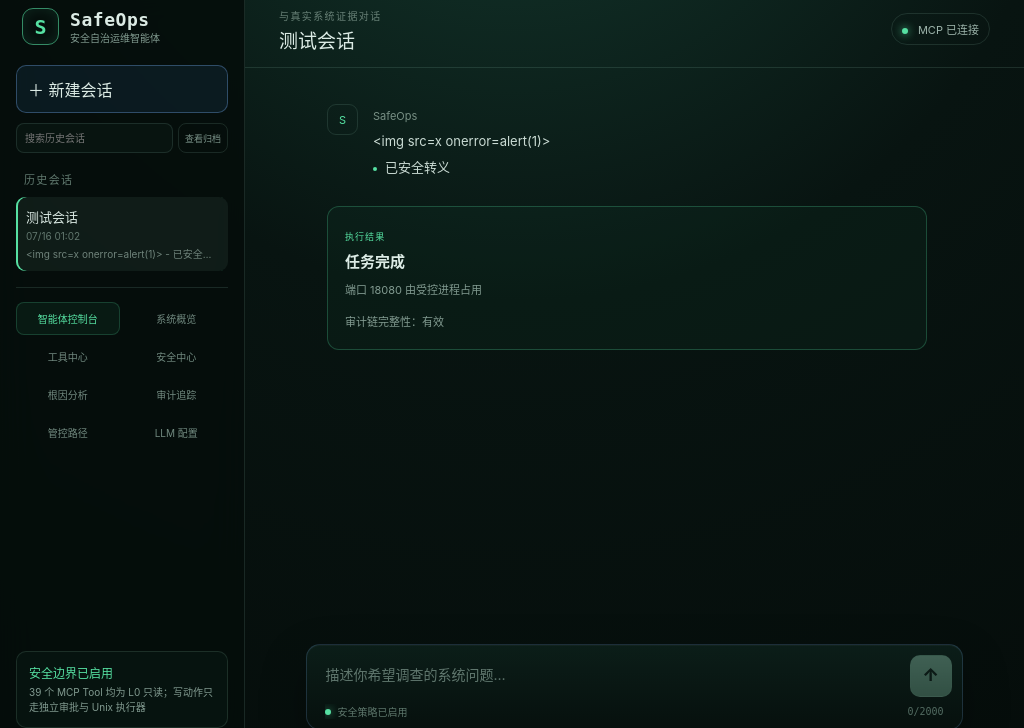
SafeOps Chinese operational UI › saves executor allowlist paths from the settings page
Expected: the heading "测试会话" is shown, [279, 30, 355, 53]
Click the button "管控路径" at (68, 432), box [16, 416, 120, 449]
(page scrolled)
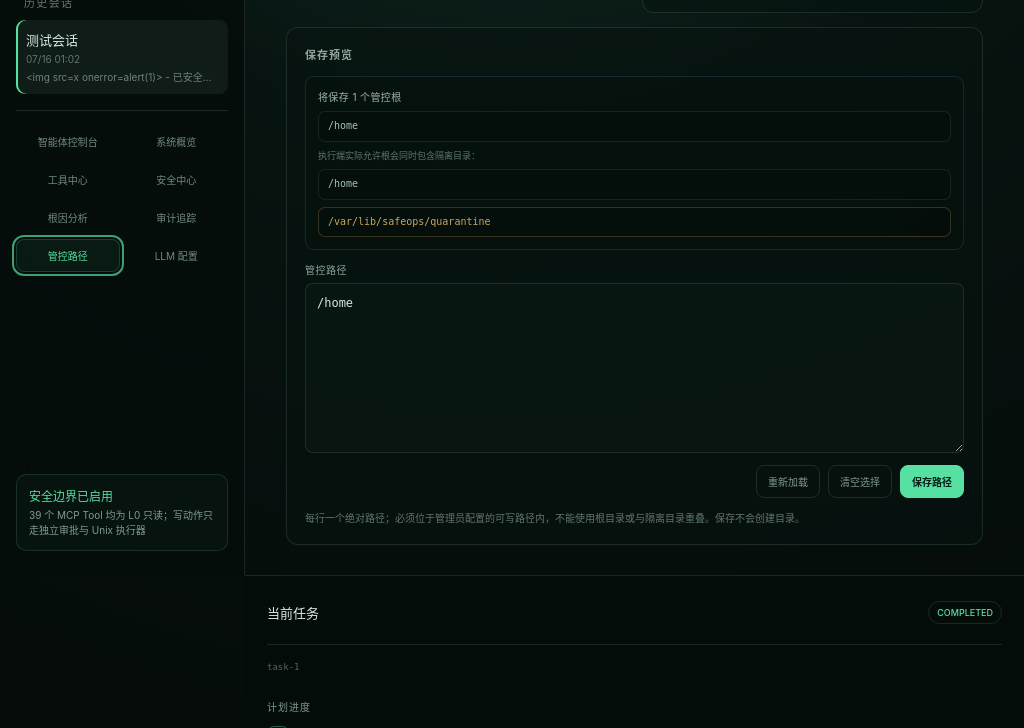
Clear the text box labelled "管控路径" at (635, 368), box [305, 283, 964, 453]
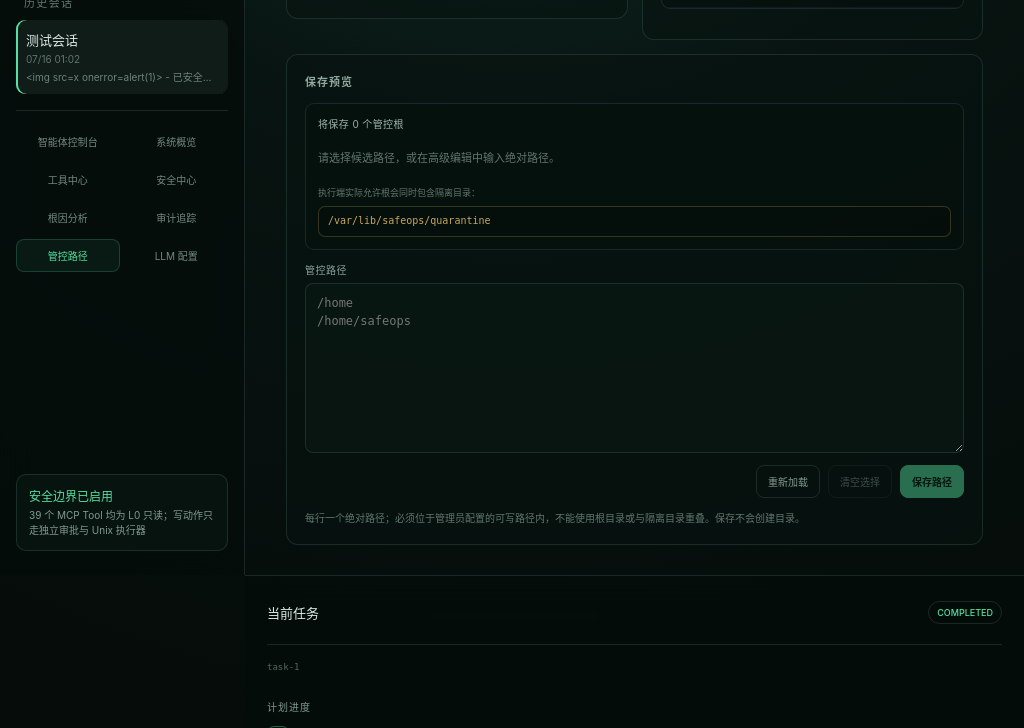
Type "/home/config" into the text box labelled "管控路径" at (635, 368), box [305, 283, 964, 453]
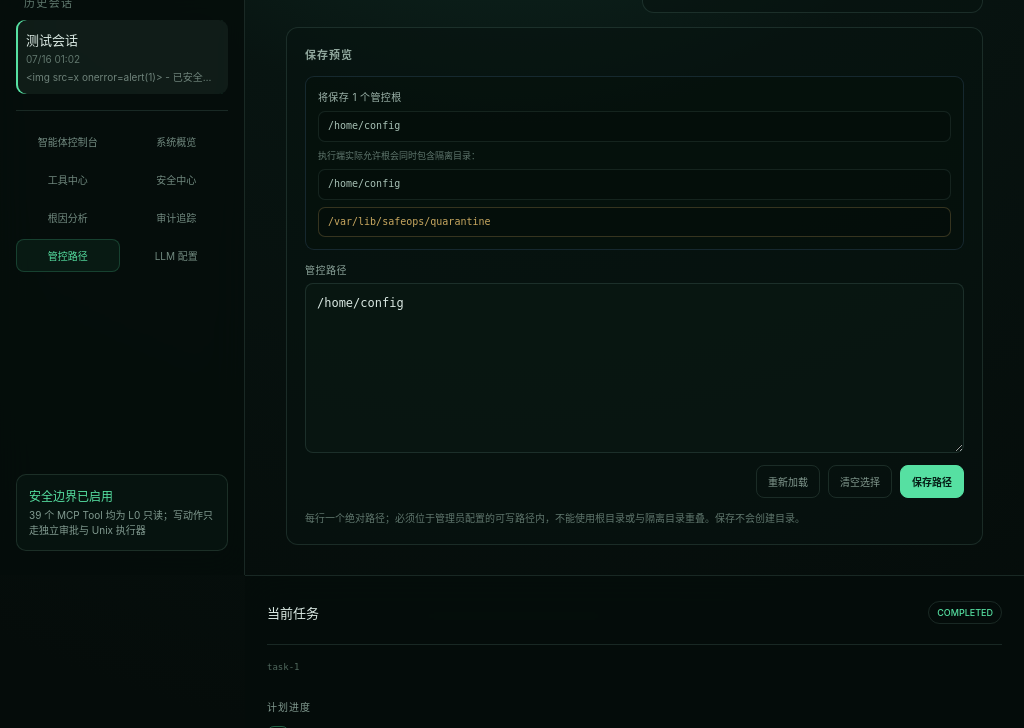
Click the button "保存路径" at (932, 482), box [900, 465, 964, 498]
(page scrolled)
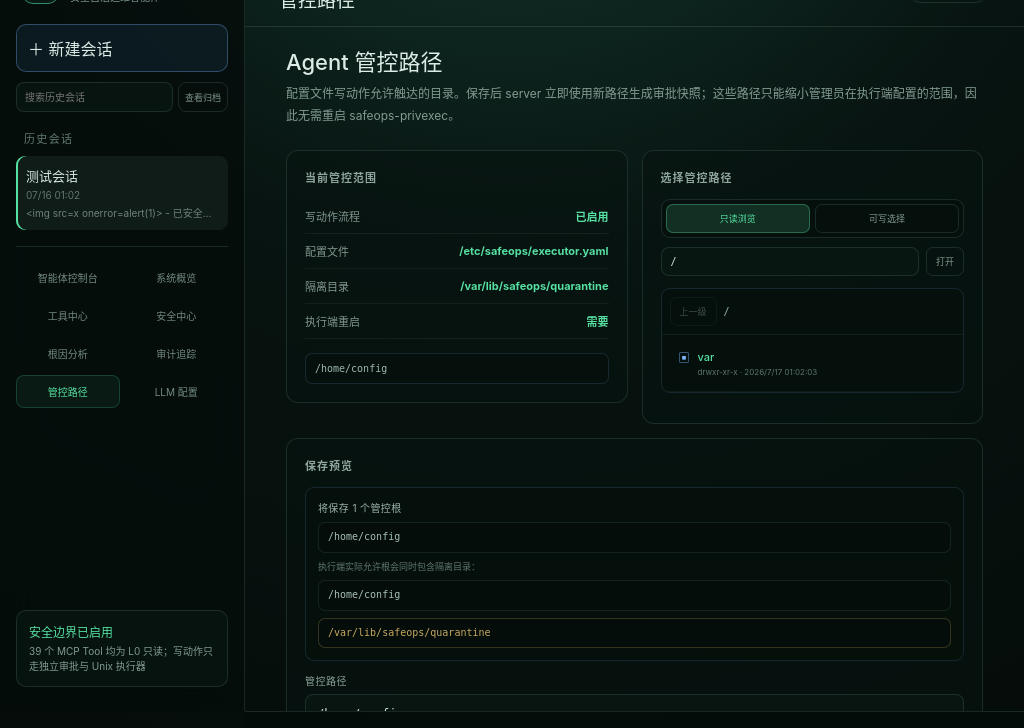
Result: the text "/home/config" below "执行端重启" is shown at [315, 363, 387, 374]
